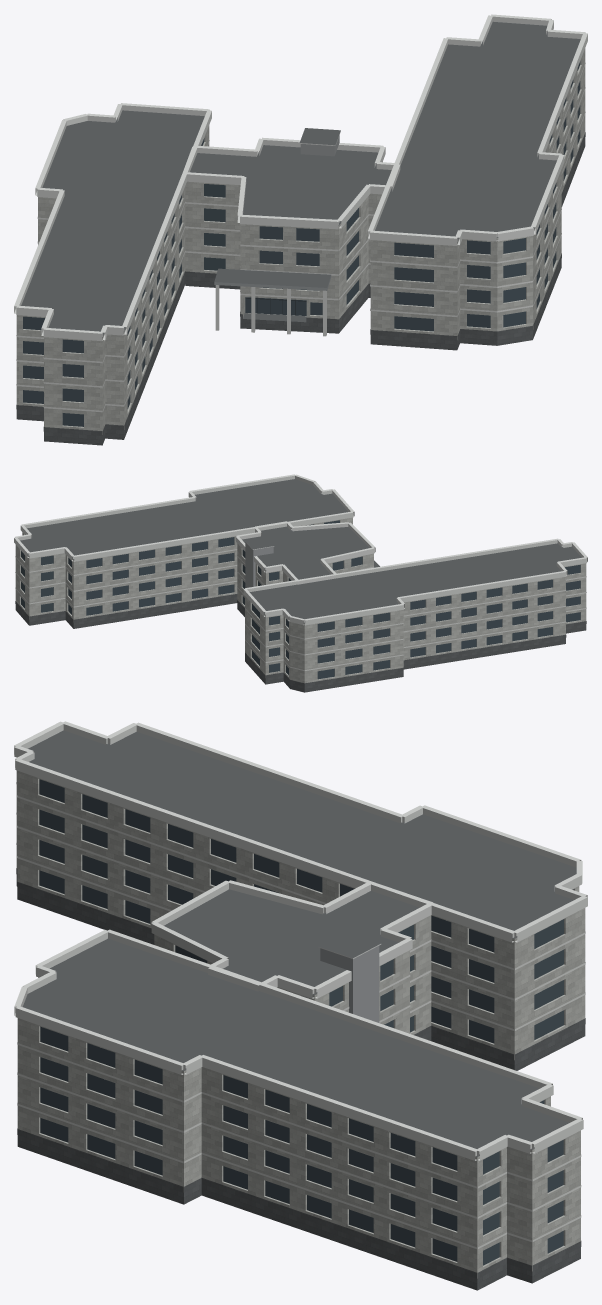
3 renders of one model, top to bottom at view 1: azimuth 30°, elevation 25°; view 2: azimuth 150°, elevation 25°; view 3: azimuth 270°, elevation 25°, orthographic. The views are drawn at different scales.
Parts seen in each view (by area): view 1: indMgmt__roof, indMgmt__wall, indMgmt__trim, indMgmt__glass, indMgmt__base, indMgmt__wall2, indMgmt__column; view 2: indMgmt__wall, indMgmt__roof, indMgmt__trim, indMgmt__glass, indMgmt__base, indMgmt__wall2; view 3: indMgmt__roof, indMgmt__wall, indMgmt__trim, indMgmt__glass, indMgmt__base, indMgmt__wall2.
Part boxes in pixels (<box>): indMgmt__roof: <box>21,21,580,337</box>; indMgmt__wall: <box>16,48,585,434</box>; indMgmt__trim: <box>14,14,587,412</box>; indMgmt__glass: <box>23,61,580,426</box>; indMgmt__base: <box>16,132,585,445</box>; indMgmt__wall2: <box>214,135,339,290</box>; indMgmt__column: <box>215,285,326,336</box>; indMgmt__wall: <box>15,517,586,683</box>; indMgmt__roof: <box>20,479,581,623</box>; indMgmt__trim: <box>14,474,587,670</box>; indMgmt__glass: <box>21,520,580,679</box>; indMgmt__base: <box>15,594,586,692</box>; indMgmt__wall2: <box>245,542,273,587</box>; indMgmt__roof: <box>23,730,576,1156</box>; indMgmt__wall: <box>16,770,585,1278</box>; indMgmt__trim: <box>14,721,587,1248</box>; indMgmt__glass: <box>39,779,573,1265</box>; indMgmt__base: <box>16,868,585,1290</box>; indMgmt__wall2: <box>320,946,379,1022</box>.
Size of the model in its own units: 116 by 19.3 by 65.08.
9 materials, 2 textured.
